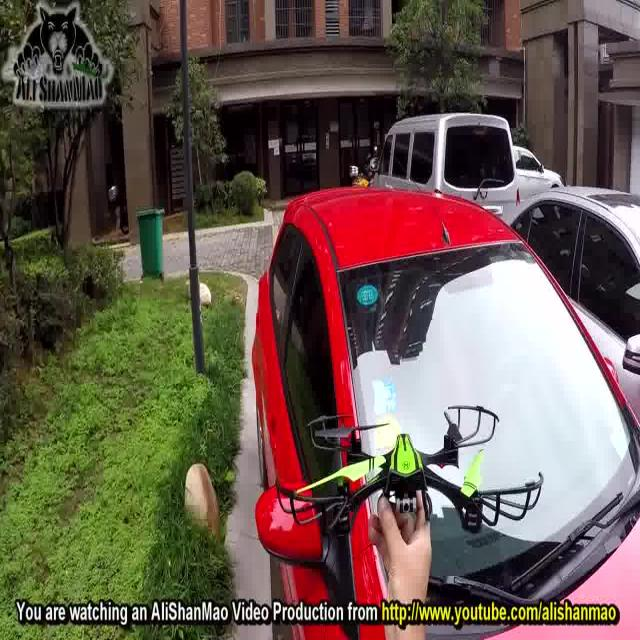Drone_FW: (272, 401, 546, 526)
